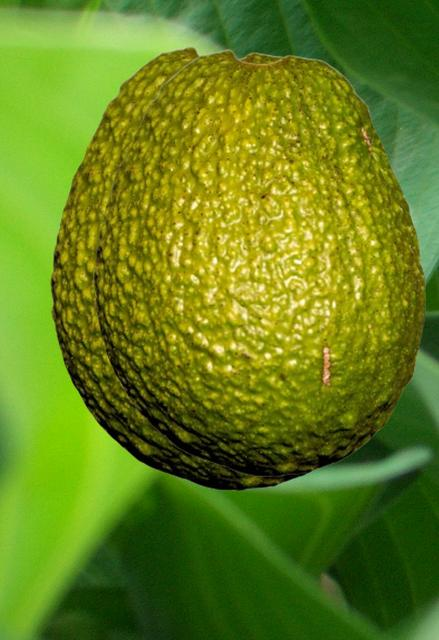avocado: (93, 49, 424, 476), (50, 46, 317, 490)
